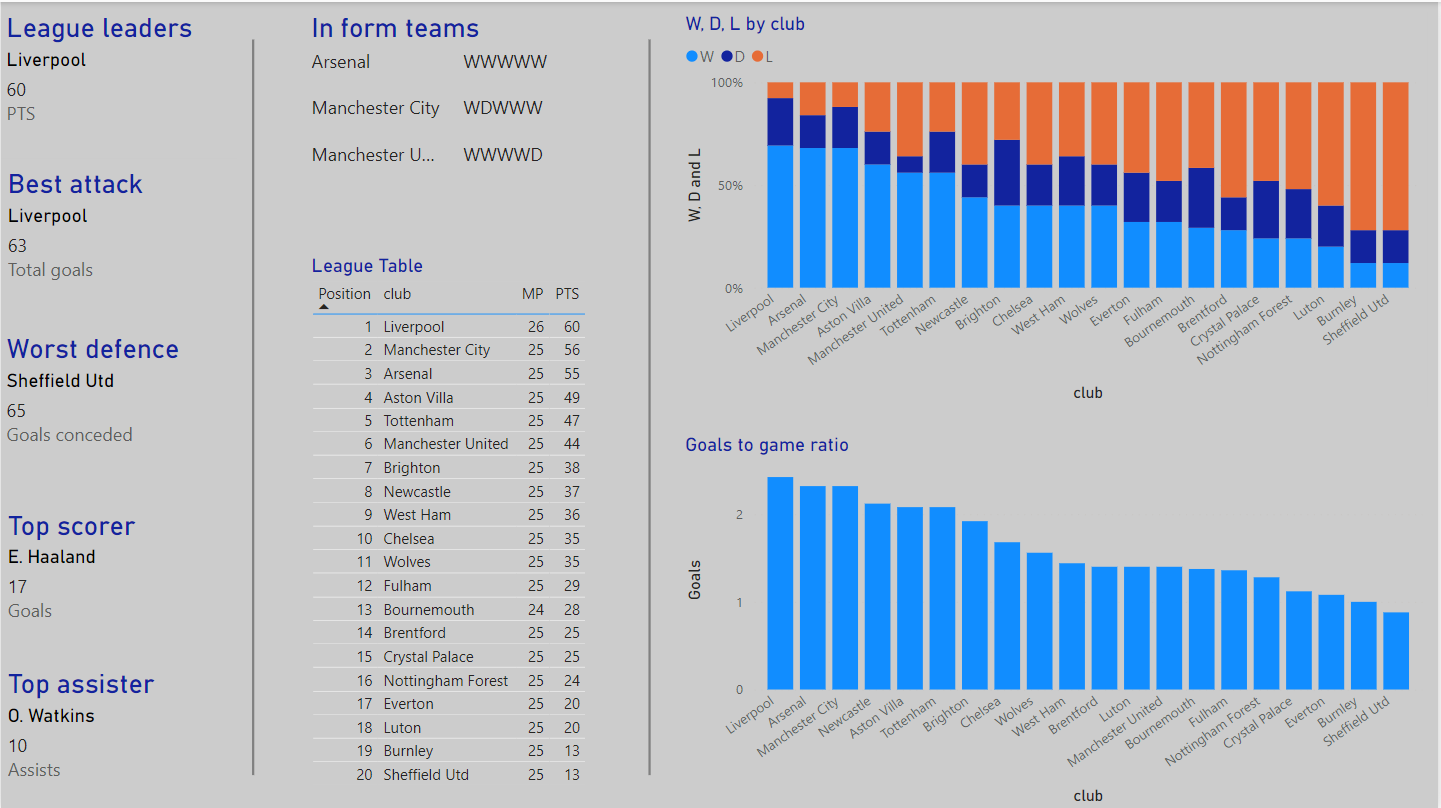

The dashboard page shown, as its layout file describes it:
{"tool":"powerbi","page":{"name":"Page 2","canvas":[1280,720],"ordinal":1},"visuals":[{"type":"multiRowCard","title":"League leaders","fields":{"Values":["core clubs.club","core standings.PTS"]},"box":[0,8.6,210.3,130.8],"z":0},{"type":"multiRowCard","title":"Best attack","fields":{"Values":["core clubs.club","Sum(core standings.GF)"]},"box":[1.2,147.9,209,136.9],"z":1000},{"type":"multiRowCard","title":"Worst defence","fields":{"Values":["core clubs.club","Sum(core standings.GA)"]},"box":[0,294.6,210.3,149.1],"z":2000},{"type":"hundredPercentStackedColumnChart","title":"W, D, L by club","fields":{"Category":["core clubs.club"],"Y":["Sum(core standings.W)","Sum(core standings.D)","Sum(core standings.L)"]},"box":[604.2,8.4,665.7,352.2],"z":3000},{"type":"tableEx","title":"League Table","fields":{"Values":["Sum(core standings.rank)","core standings.club","Sum(core standings.MP)","Sum(core standings.PTS)"]},"box":[271.4,224.3,255.7,495.7],"z":4000},{"type":"clusteredColumnChart","title":"Goals to game ratio","fields":{"Category":["core standings.club"],"Y":["Sum(core standings.'Goals to game ratio')"]},"box":[603.9,383.8,666.2,336.2],"z":5000},{"type":"multiRowCard","title":"Top scorer","fields":{"Values":["core top_scorers.player_name","Sum(core top_scorers.goals)"]},"box":[1.2,452.3,209,132],"z":6000},{"type":"multiRowCard","title":"Top assister","fields":{"Values":["core top_assisters.player_name","Sum(core top_assisters.assists)"]},"box":[1.2,592.9,209,127.1],"z":7000},{"type":"multiRowCard","title":"In form teams","fields":{"Values":["core clubs.club","core standings.last_5"]},"box":[271.4,8.4,279.8,206.2],"z":8000},{"type":"shape","box":[193,33.8,63.9,654.9],"z":8001},{"type":"shape","box":[551.2,33.8,53.1,654.9],"z":8002}]}

Visuals, with their boxes in screenshot pixels (x1, y1, x2, y2), scaled from the page's 1280x720 canvas onto the 1441x808 screenshot:
"League leaders" multiRowCard: 0:10:237:156
"Best attack" multiRowCard: 1:166:237:320
"Worst defence" multiRowCard: 0:331:237:498
"W, D, L by club" hundredPercentStackedColumnChart: 680:9:1430:405
"League Table" tableEx: 306:252:593:807
"Goals to game ratio" clusteredColumnChart: 680:431:1430:807
"Top scorer" multiRowCard: 1:508:237:656
"Top assister" multiRowCard: 1:665:237:807
"In form teams" multiRowCard: 306:9:621:241
shape: 217:38:289:773
shape: 621:38:680:773
